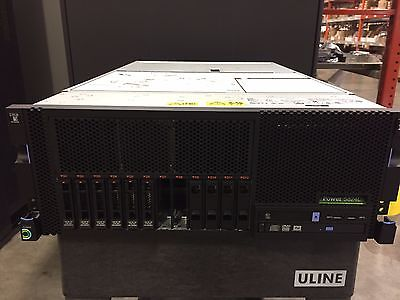ibm-server: (3, 102, 397, 245)
